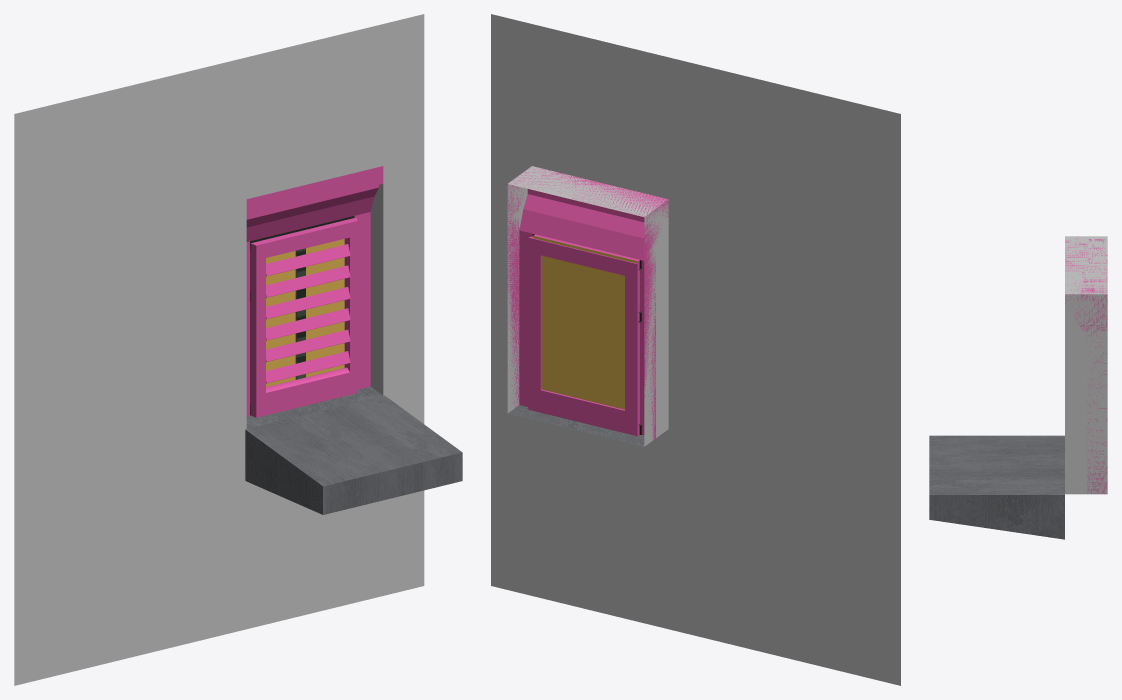
File: SM_Window_Single_Right.fbx
3 views of the same model, side by side, from view 1: azimuth 30°, elevation 25°; view 2: azimuth 150°, elevation 25°; view 3: azimuth 270°, elevation 25° (orthographic). The views are drawn at different scales.
Parts seen in each view (by area): view 1: SM_Window_Single_Right; view 2: SM_Window_Single_Right; view 3: SM_Window_Single_Right.
Part boxes in pixels (x1,y1,x2,y2): SM_Window_Single_Right: (14, 14, 462, 685); SM_Window_Single_Right: (491, 14, 900, 685); SM_Window_Single_Right: (929, 236, 1107, 539).
Size of the model in its own units: 3 by 4 by 1.3.
